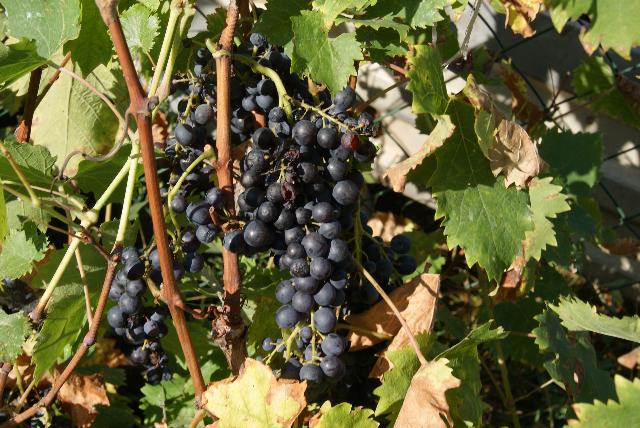grapes: (239, 106, 380, 381), (108, 246, 172, 385), (230, 60, 280, 132), (362, 235, 418, 292), (256, 50, 308, 100), (178, 82, 218, 135), (172, 230, 204, 281), (348, 264, 380, 312), (236, 32, 269, 59), (190, 128, 205, 144), (195, 65, 209, 82)
